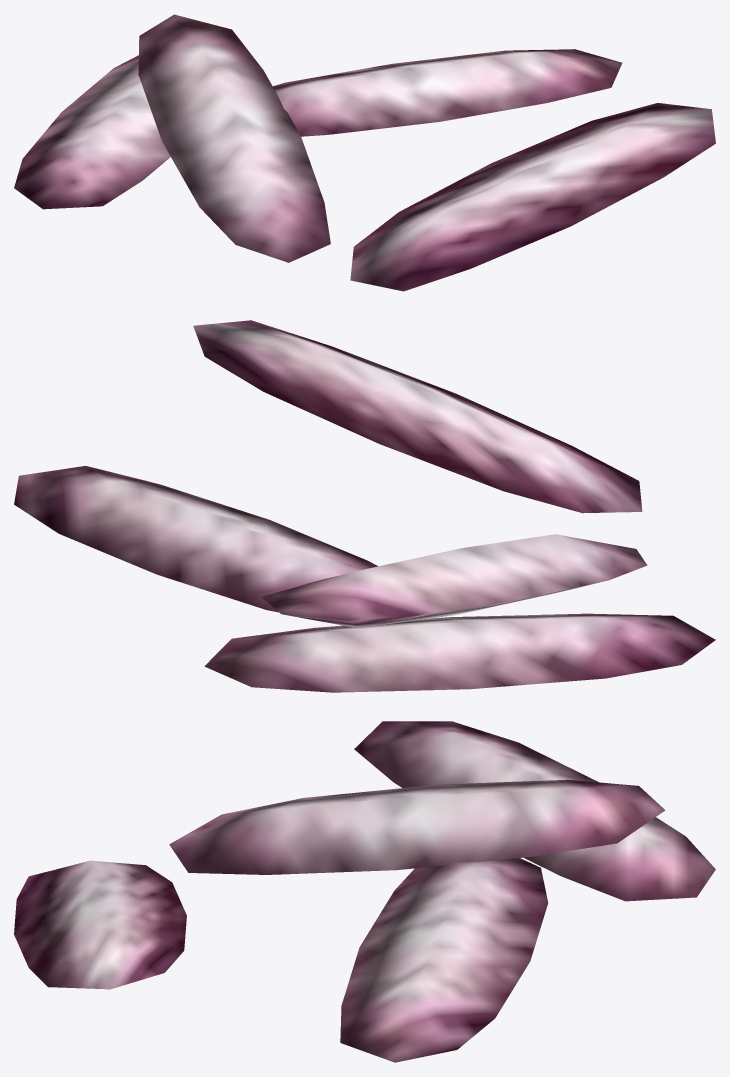
The model's file is KM_SEEDS_03.glb.
3 views of the same model, one above another, from view 1: azimuth 30°, elevation 25°; view 2: azimuth 150°, elevation 25°; view 3: azimuth 270°, elevation 25° (orthographic). The views are drawn at different scales.
Visible parts, largest first — view 1: Mesh; view 2: Mesh; view 3: Mesh.
Part boxes in pixels (x1=…): Mesh: x1=14, y1=14, x2=715, y2=291; Mesh: x1=14, y1=320, x2=715, y2=692; Mesh: x1=14, y1=721, x2=715, y2=1062.
Bounding box in the file's own units: 0.3483 × 0.0488 × 0.3026.
Materials: 1 (1 with a texture image).
